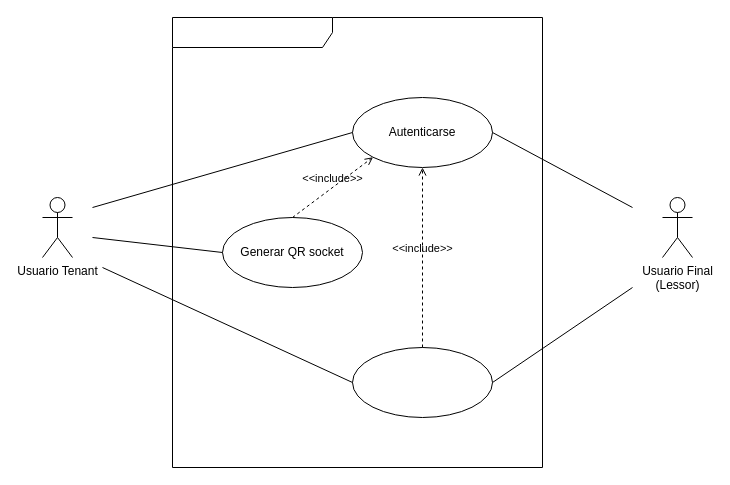
This 730x485 diagram has some shape labels left out. Each missing label, with the box of its shape:
User Tenant (Server): (172, 16, 542, 468)
Vincular Usuario: (352, 346, 492, 418)
